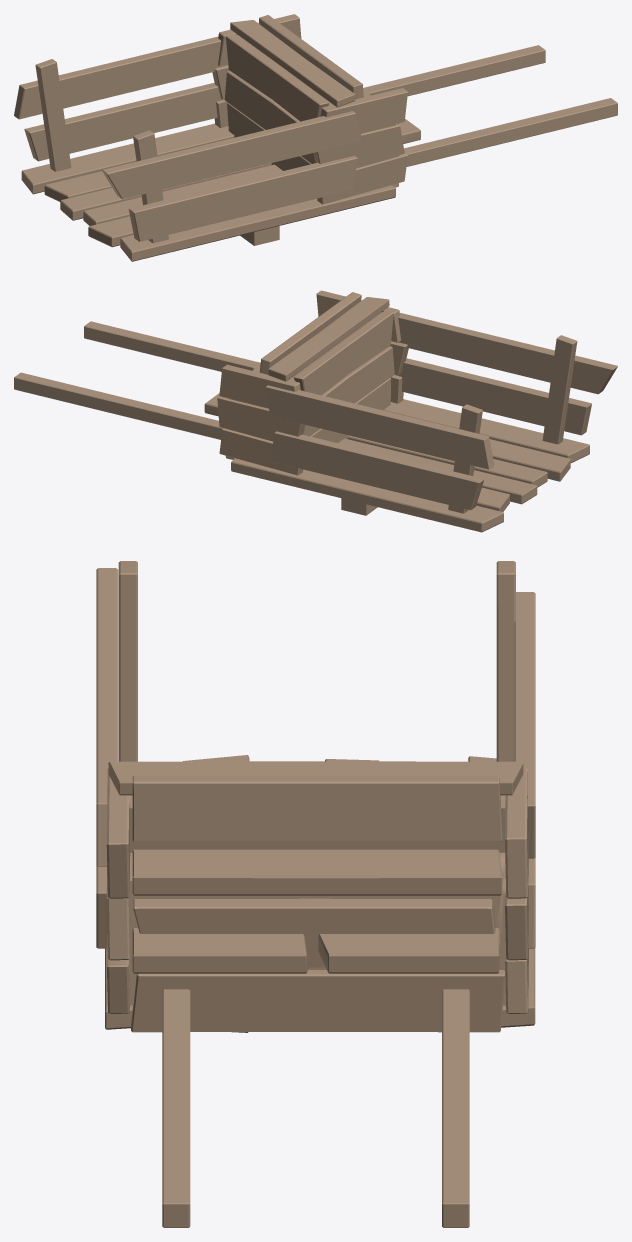
The model's file is WagonBase.fbx.
3 renders of one model, top to bottom at view 1: azimuth 30°, elevation 25°; view 2: azimuth 150°, elevation 25°; view 3: azimuth 270°, elevation 25°, orthographic. The views are drawn at different scales.
Parts seen in each view (by area): view 1: Wagon; view 2: Wagon; view 3: Wagon.
Part boxes in pixels (x1=…): Wagon: x1=14, y1=14, x2=617, y2=261; Wagon: x1=14, y1=290, x2=617, y2=532; Wagon: x1=96, y1=561, x2=535, y2=1227.
Bounding box in the file's own units: 7.05 × 1.94 × 2.62.
